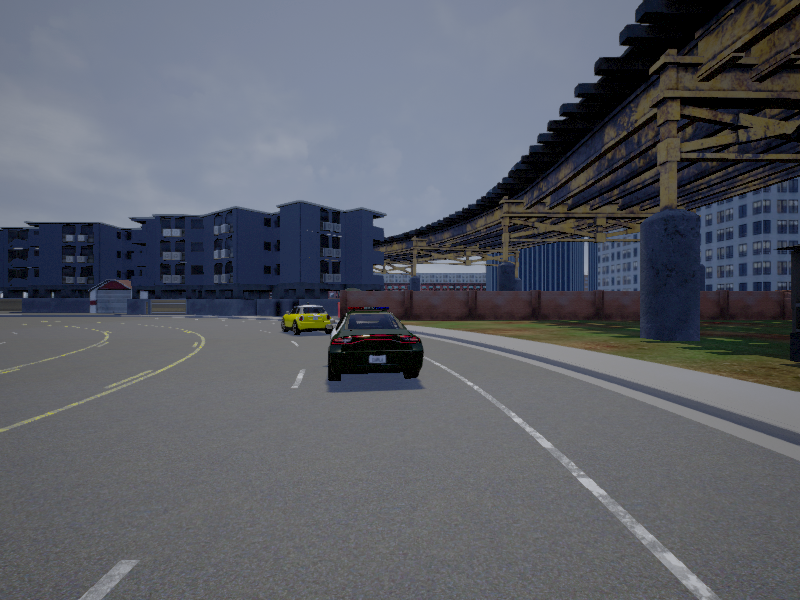Benign: (329, 306, 424, 383), (281, 304, 334, 335)
